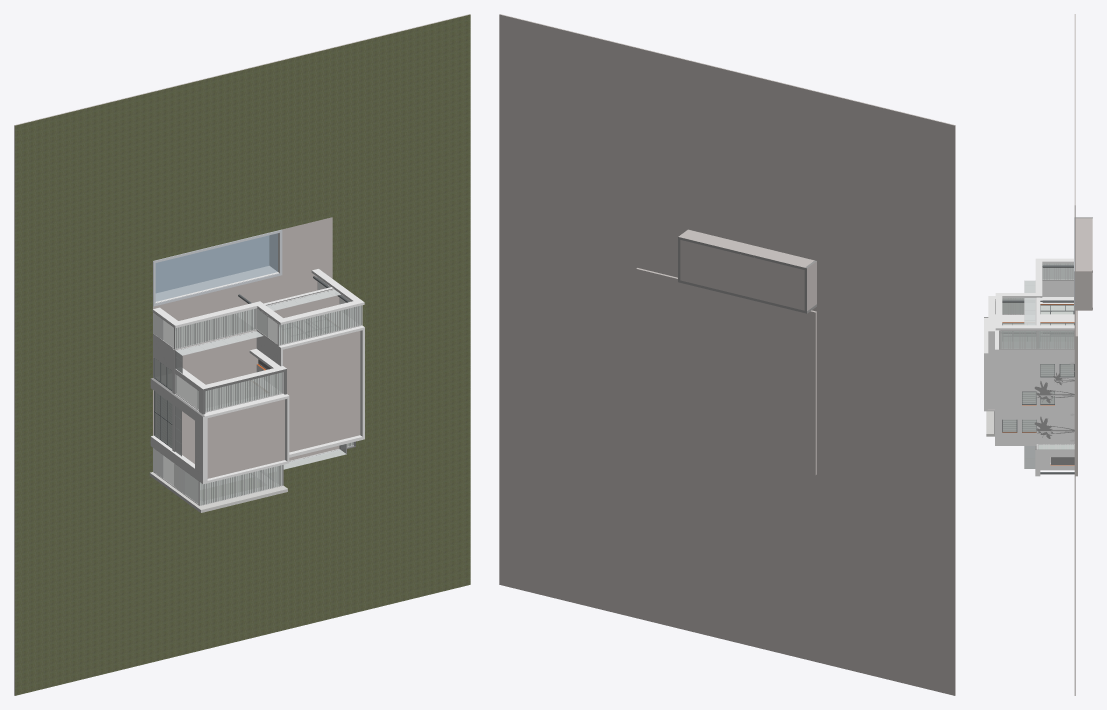
Rendered from villa22.glb.
3 views of the same model, side by side, from view 1: azimuth 30°, elevation 25°; view 2: azimuth 150°, elevation 25°; view 3: azimuth 270°, elevation 25° (orthographic). The views are drawn at different scales.
Parts seen in each view (by area): view 1: Obj.13706:1, Obj.13706, Obj.10197:1, Obj.12904, Obj.13535, Obj.20231, Obj.11683:4, Obj.20246, Obj.13357, Obj.11683; view 2: Obj.13706, Obj.10198:1; view 3: Obj.10197:1, Obj.12904, Obj.13706, Obj.13535, Obj.10297:1, Obj.10198:1, Obj.11683:4, Obj.13357.
Part boxes in pixels (x1=…): Obj.13706:1: x1=15, y1=14, x2=470, y2=695; Obj.13706: x1=14, y1=14, x2=470, y2=695; Obj.10197:1: x1=150, y1=233, x2=364, y2=484; Obj.12904: x1=153, y1=278, x2=361, y2=505; Obj.13535: x1=153, y1=277, x2=362, y2=505; Obj.20231: x1=155, y1=233, x2=277, y2=301; Obj.11683:4: x1=175, y1=289, x2=346, y2=469; Obj.20246: x1=153, y1=229, x2=282, y2=306; Obj.13357: x1=149, y1=472, x2=287, y2=512; Obj.11683: x1=175, y1=289, x2=346, y2=469; Obj.13706: x1=499, y1=14, x2=955, y2=695; Obj.10198:1: x1=678, y1=237, x2=816, y2=313; Obj.10197:1: x1=984, y1=258, x2=1074, y2=476; Obj.12904: x1=1000, y1=263, x2=1073, y2=449; Obj.13706: x1=988, y1=14, x2=1092, y2=695; Obj.13535: x1=994, y1=264, x2=1074, y2=449; Obj.10297:1: x1=1002, y1=265, x2=1074, y2=474; Obj.10198:1: x1=984, y1=217, x2=1092, y2=441; Obj.11683:4: x1=1024, y1=280, x2=1035, y2=468; Obj.13357: x1=986, y1=411, x2=994, y2=436.
Size of the model in its own units: 39.59 by 47.32 by 9.5.
31 materials, 8 textured.
